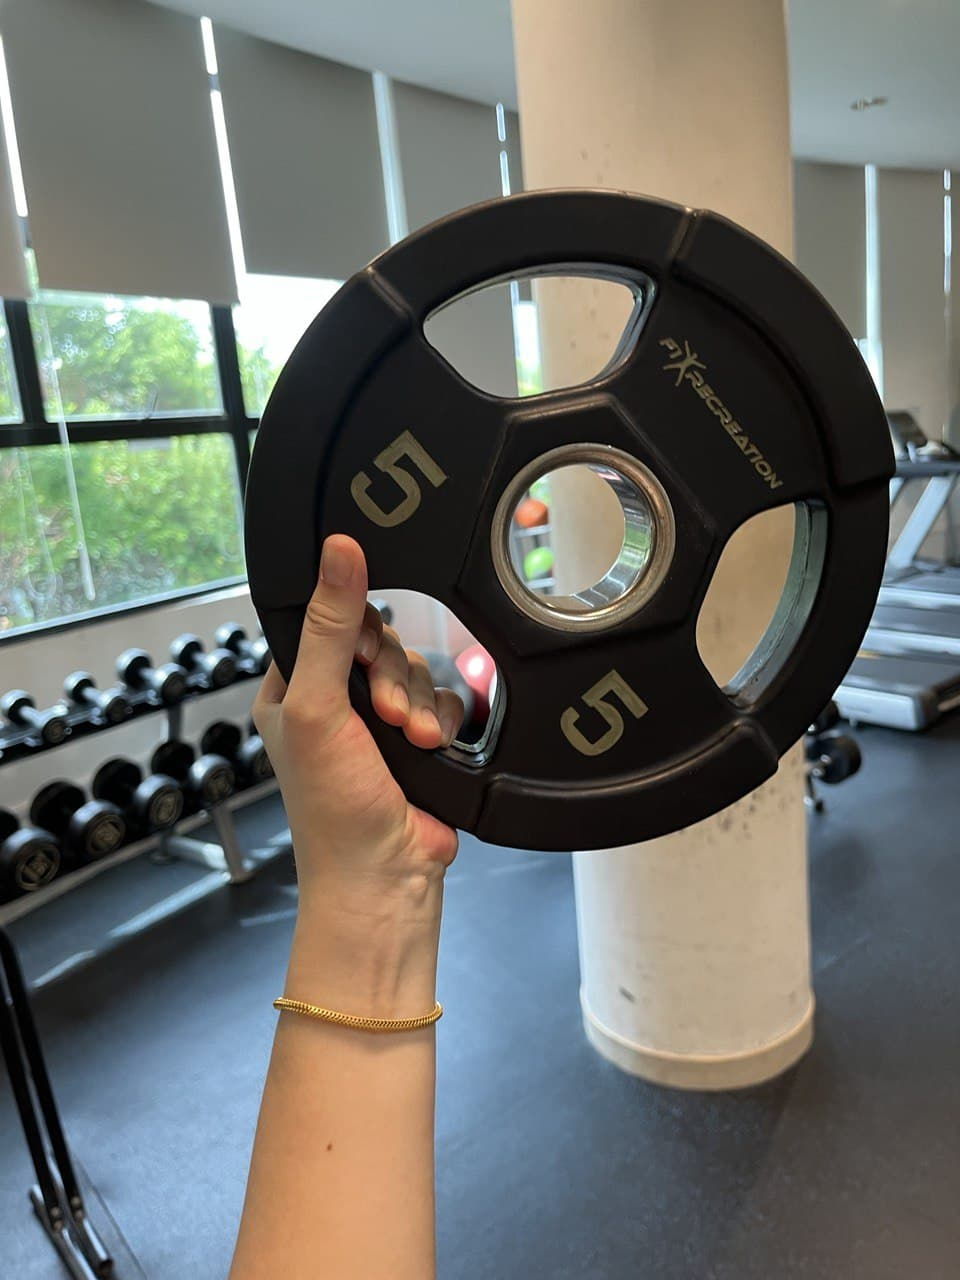weights: (253, 179, 898, 858)
